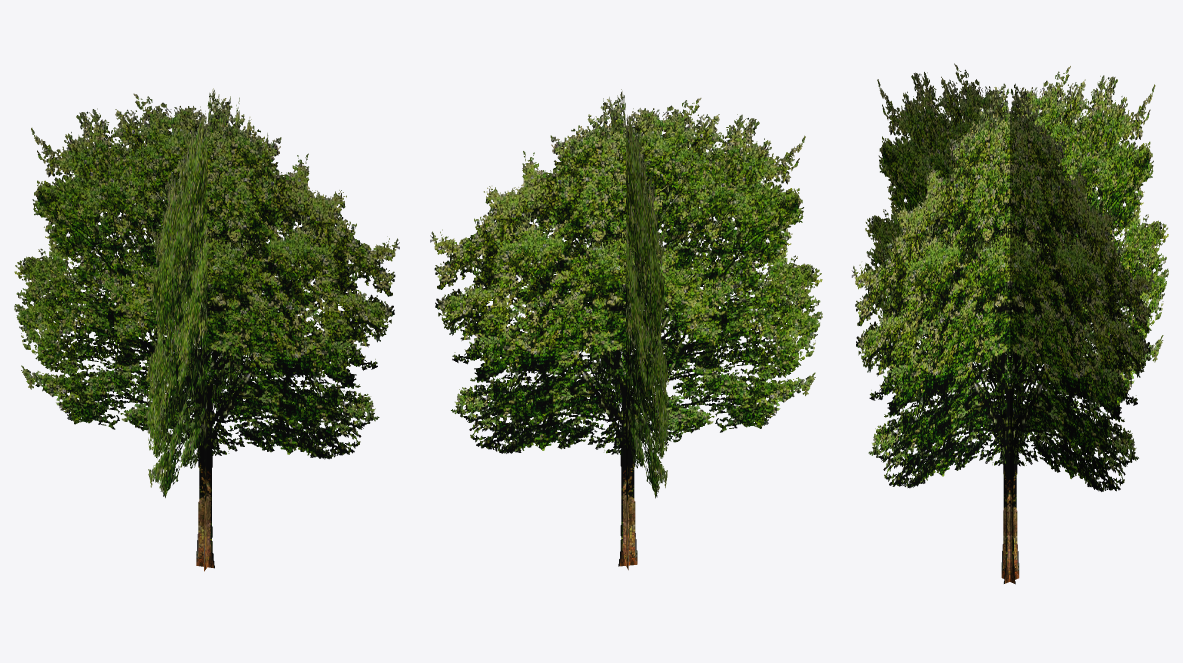
Rendered from tree6.gltf.
The picture shows the model from 3 angles, left to right: view 1: azimuth 30°, elevation 25°; view 2: azimuth 150°, elevation 25°; view 3: azimuth 270°, elevation 25°; orthographic projection. The views are drawn at different scales.
Visible parts, largest first — view 1: Node_5aa5057f-246e-4b76-a6ae-53e55eba9d59_0_0; view 2: Node_5aa5057f-246e-4b76-a6ae-53e55eba9d59_0_0; view 3: Node_5aa5057f-246e-4b76-a6ae-53e55eba9d59_0_0.
Boxes of the visible parts, x1,y1,x2,y2 form: Node_5aa5057f-246e-4b76-a6ae-53e55eba9d59_0_0: (14,88,399,571); Node_5aa5057f-246e-4b76-a6ae-53e55eba9d59_0_0: (430,89,822,570); Node_5aa5057f-246e-4b76-a6ae-53e55eba9d59_0_0: (851,63,1168,584).
Size of the model in its own units: 9.53 by 16.56 by 9.53.
1 material, 1 textured.
